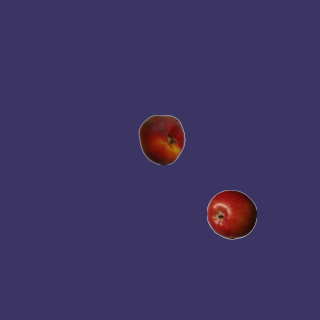Apple Braeburn: (206, 189, 256, 239)
Nectarine Flat: (136, 114, 186, 164)
